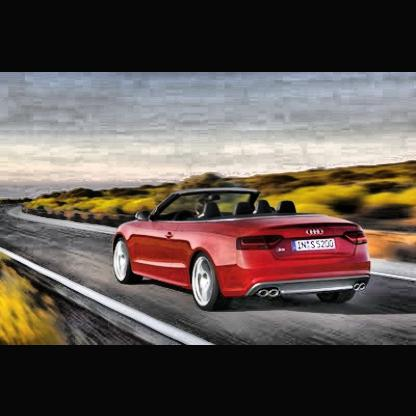Audi S5 Convertible 2012: (114, 189, 375, 313)
